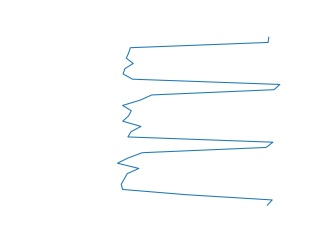majorRiverChannelBar: (114, 36, 284, 207)
